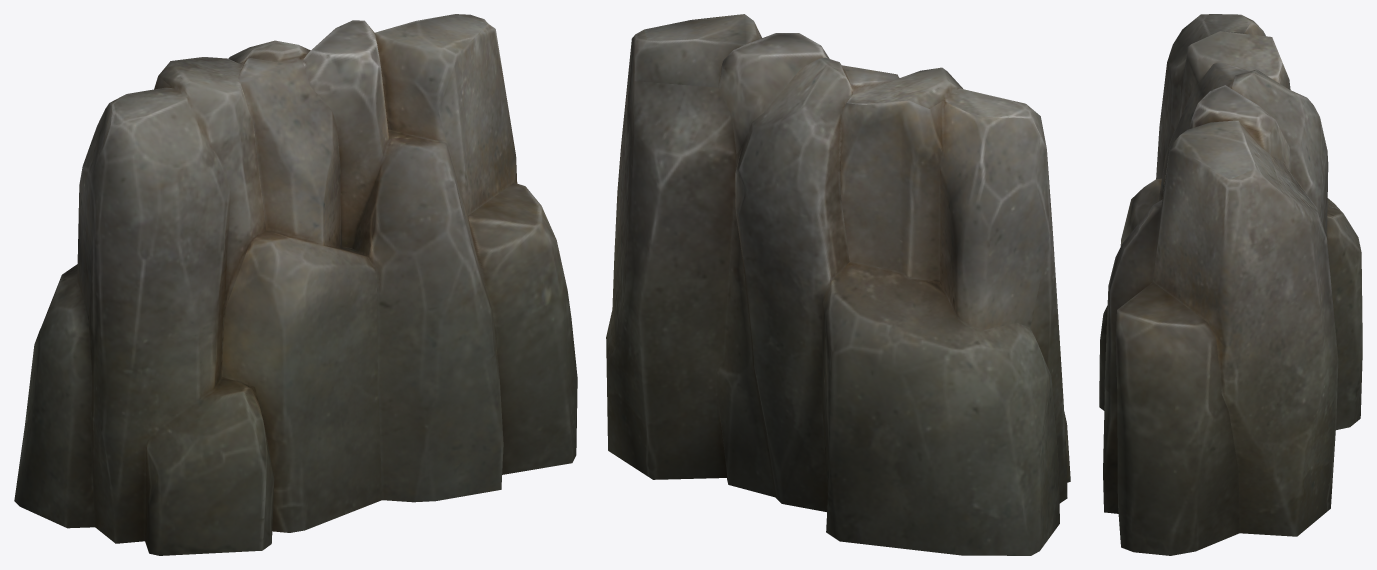
File: Rock2.fbx
The picture shows the model from 3 angles, left to right: view 1: azimuth 30°, elevation 25°; view 2: azimuth 150°, elevation 25°; view 3: azimuth 270°, elevation 25°; orthographic projection. The views are drawn at different scales.
Parts seen in each view (by area): view 1: RockWall4a_ManualRetopoB.002_Plane.018; view 2: RockWall4a_ManualRetopoB.002_Plane.018; view 3: RockWall4a_ManualRetopoB.002_Plane.018.
Boxes of the visible parts, x1=… form: RockWall4a_ManualRetopoB.002_Plane.018: x1=14, y1=14, x2=577, y2=555; RockWall4a_ManualRetopoB.002_Plane.018: x1=606, y1=14, x2=1070, y2=555; RockWall4a_ManualRetopoB.002_Plane.018: x1=1099, y1=14, x2=1362, y2=555.
Size of the model in its own units: 523 by 437 by 277.
